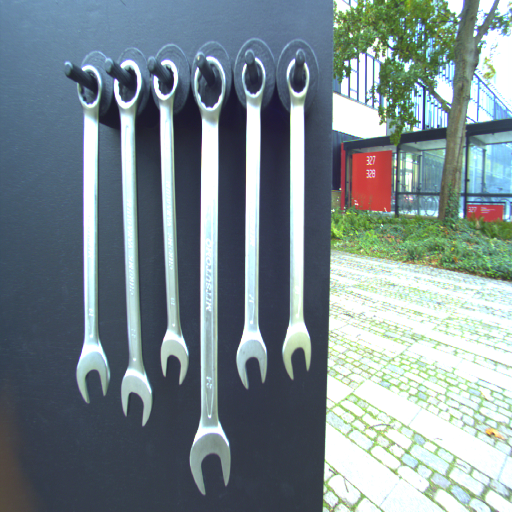bottom: (187, 421, 233, 497), (74, 342, 112, 405), (119, 365, 154, 430), (234, 331, 269, 391), (158, 329, 191, 387), (280, 323, 313, 380)
top: (190, 53, 231, 118), (111, 60, 141, 113), (238, 55, 269, 105), (74, 63, 105, 109), (150, 58, 180, 103), (284, 55, 313, 101)
